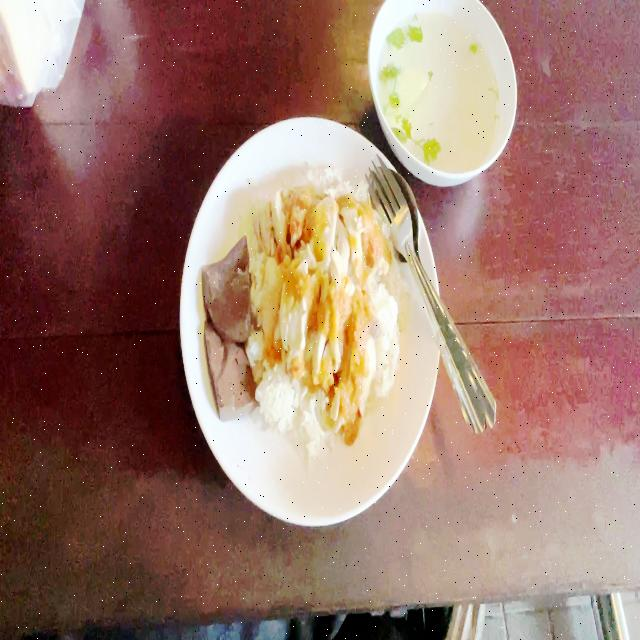boiled_chicken: (268, 194, 379, 384)
boiled_chicken_blood_jelly: (200, 234, 252, 346), (200, 316, 255, 420)
chicken_rice: (192, 165, 406, 468)
